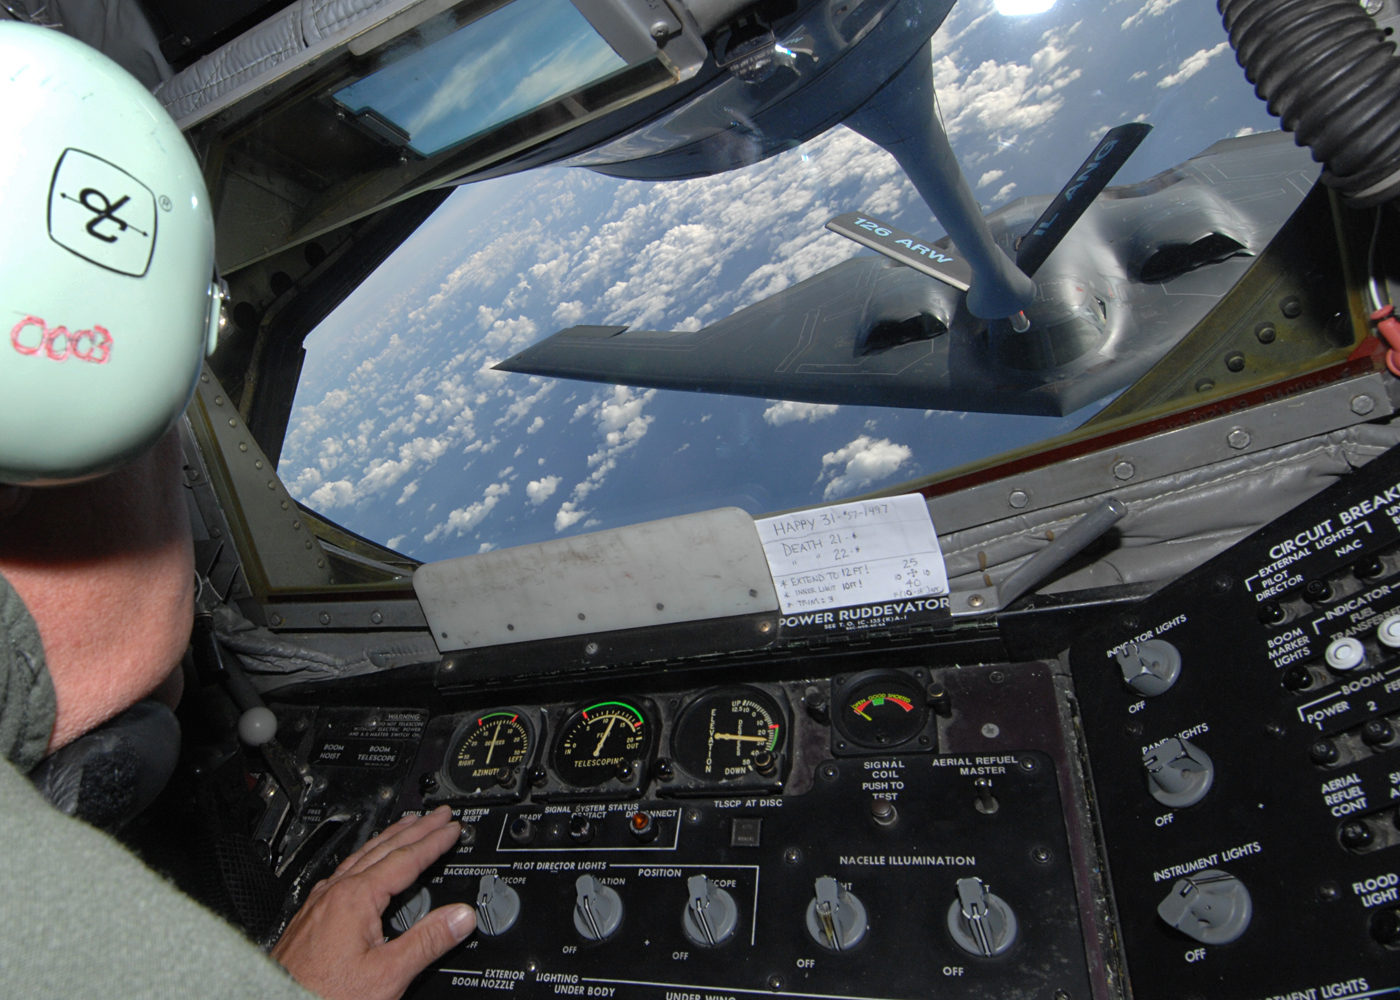B2: (488, 129, 1323, 419)
